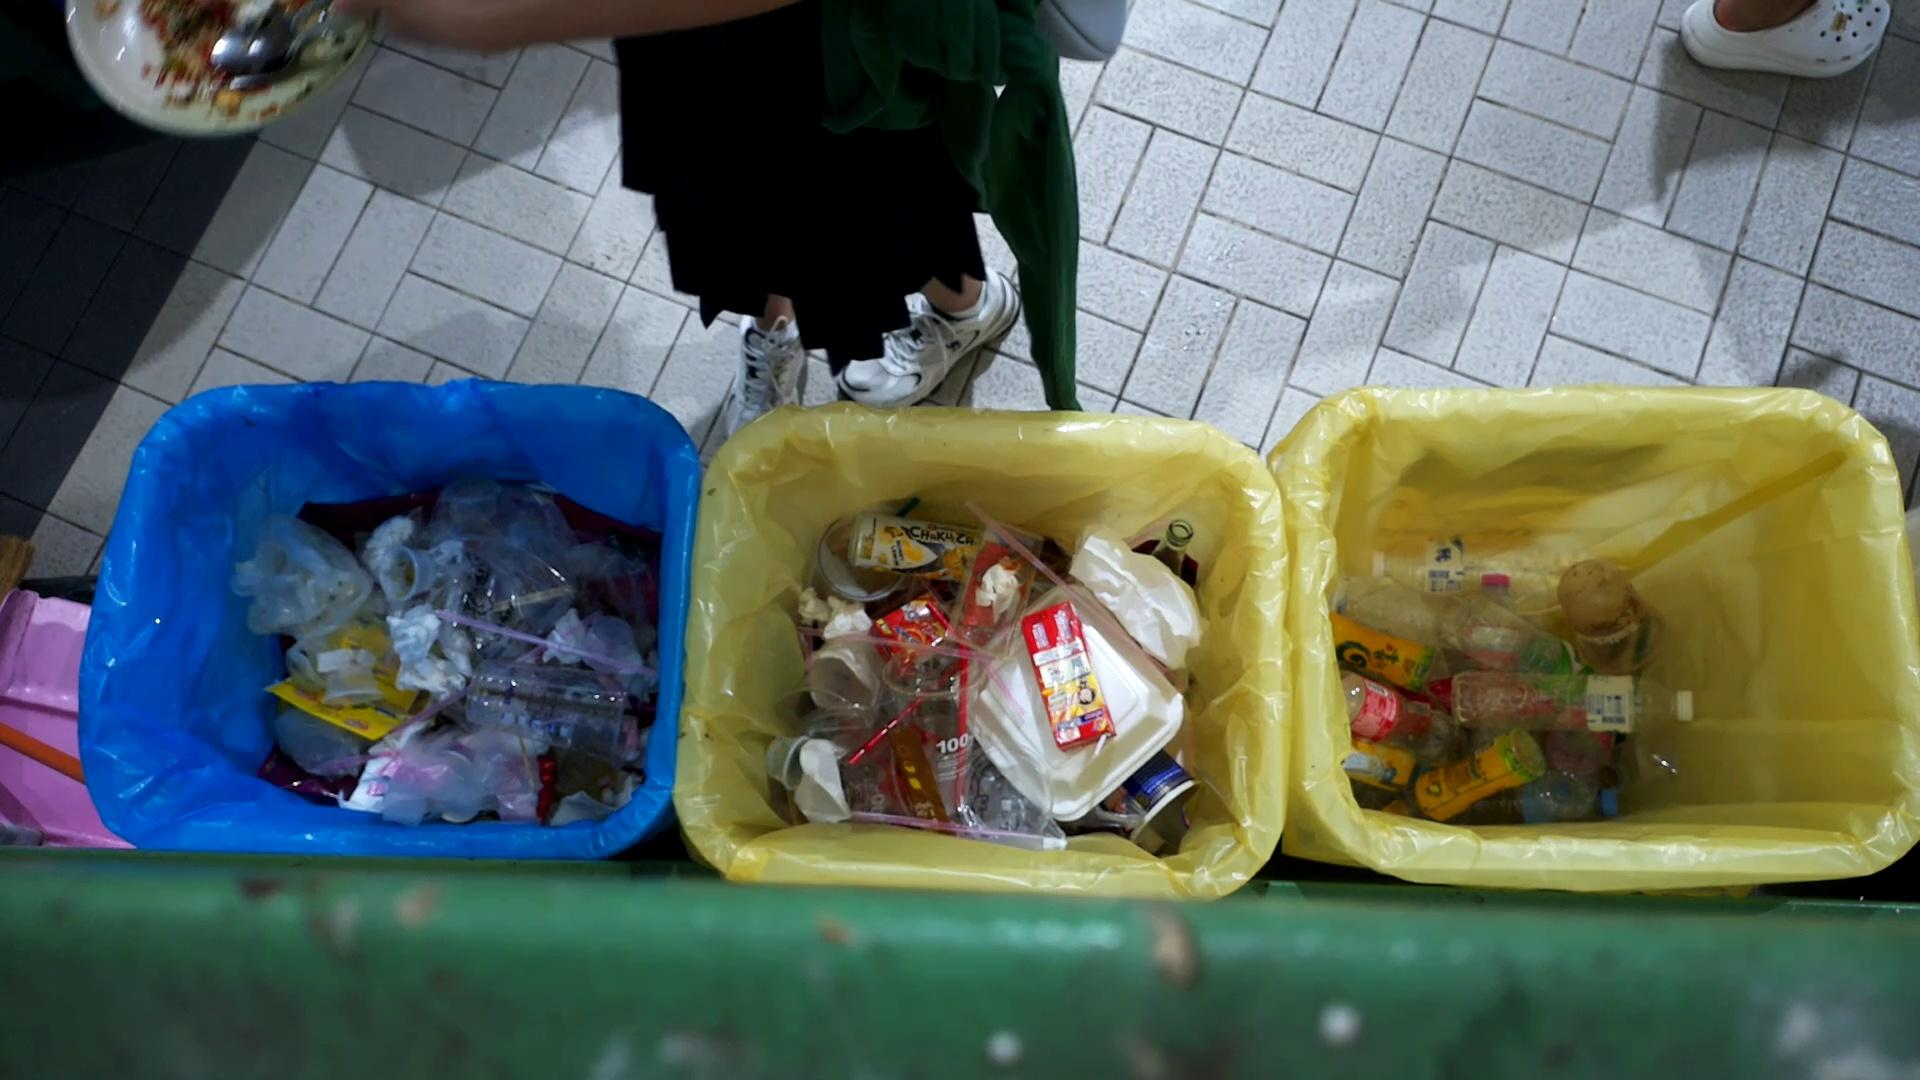can: (845, 509, 975, 583)
dirty food container: (65, 0, 373, 136)
filled plastic bag: (384, 473, 580, 687), (940, 516, 1042, 658)
food container: (945, 578, 1189, 825), (795, 736, 856, 825), (373, 541, 438, 604), (579, 615, 642, 675), (761, 731, 814, 796)
milk carton: (1014, 591, 1121, 761), (868, 588, 972, 680)
plastic bag: (1072, 522, 1215, 678), (228, 509, 378, 647), (375, 716, 542, 831)
plastic bottle: (1449, 666, 1698, 741), (1379, 704, 1548, 815), (1337, 666, 1486, 766), (1369, 531, 1593, 597), (1441, 593, 1584, 670), (1328, 607, 1456, 688)
plastic cup: (463, 661, 645, 771), (880, 646, 992, 822), (1552, 556, 1669, 671), (953, 740, 1059, 852)
straw: (443, 589, 663, 692), (1007, 538, 1160, 682), (847, 800, 1071, 858), (848, 658, 961, 765), (936, 596, 993, 804), (796, 625, 994, 662), (479, 688, 657, 721), (961, 640, 1030, 723), (1092, 735, 1112, 765)
tissue paper: (380, 600, 454, 669), (796, 595, 880, 650), (392, 646, 469, 703), (537, 607, 592, 665), (433, 620, 481, 679), (310, 641, 382, 679)
